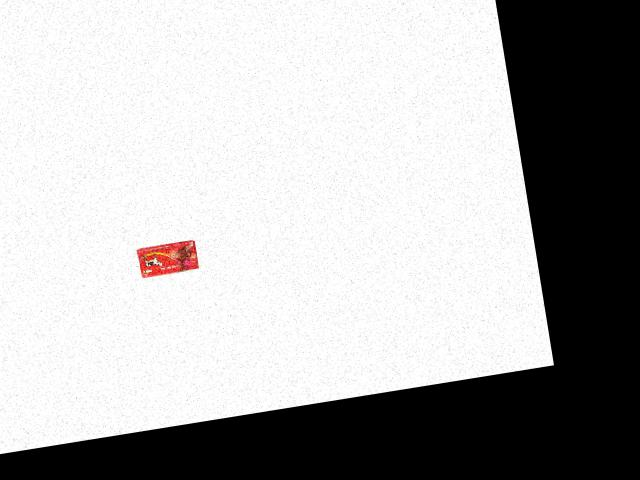chocolate: (132, 236, 199, 278)
